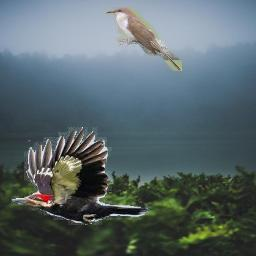Cuckoo: (105, 7, 182, 71)
Woodpecker: (11, 126, 150, 225)
